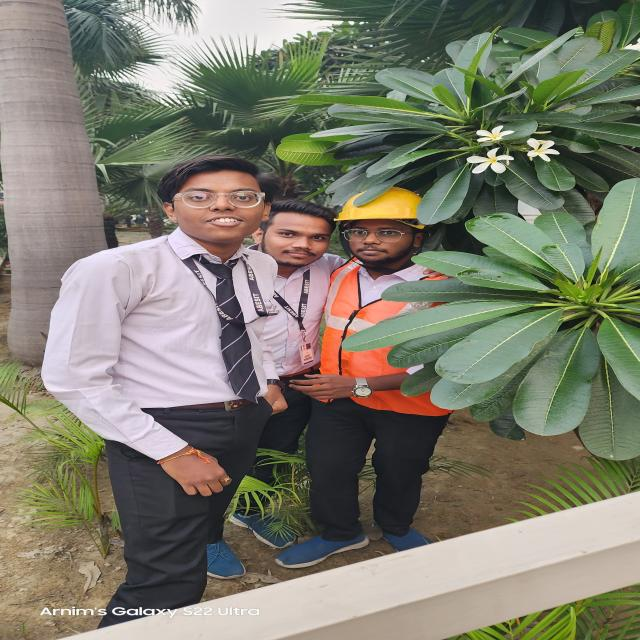safe: (304, 185, 455, 563)
unsafe: (47, 154, 277, 628), (228, 202, 338, 586)
